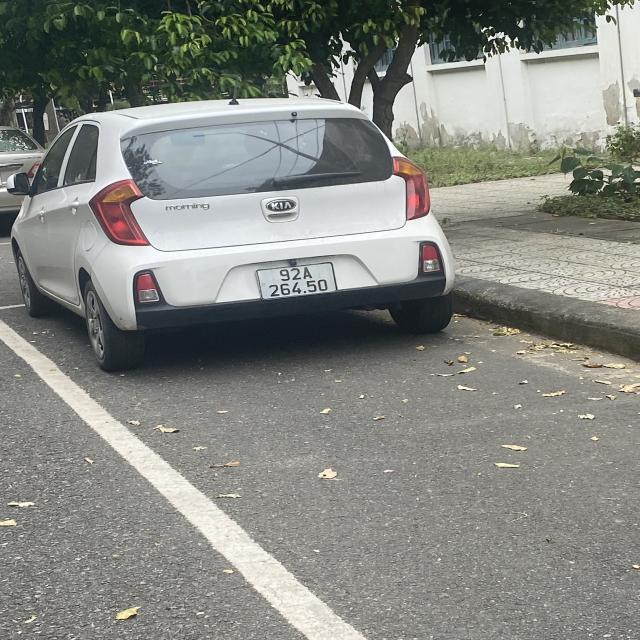car: (15, 96, 460, 366), (0, 119, 46, 204)
plate: (251, 254, 345, 305)
